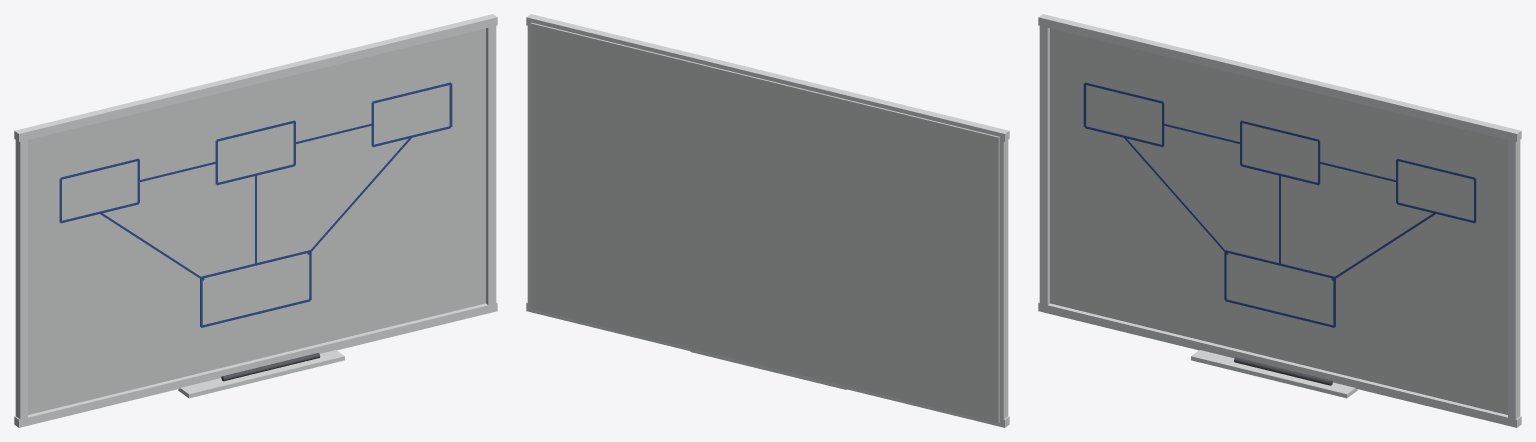
File: whiteboard.glb
3 views of the same model, side by side, from view 1: azimuth 30°, elevation 25°; view 2: azimuth 150°, elevation 25°; view 3: azimuth 330°, elevation 25° (orthographic).
Visible parts, largest first — view 1: Board, Frame, Ink, Markers; view 2: Board, Frame; view 3: Board, Frame, Ink, Markers.
Part boxes in pixels (bbox=[...]): Board: bbox=[28, 28, 485, 414]; Frame: bbox=[14, 14, 497, 427]; Ink: bbox=[59, 82, 452, 327]; Markers: bbox=[221, 353, 320, 381]; Board: bbox=[530, 22, 999, 423]; Frame: bbox=[526, 14, 1009, 427]; Board: bbox=[1050, 28, 1507, 414]; Frame: bbox=[1038, 14, 1521, 427]; Ink: bbox=[1083, 82, 1476, 327]; Markers: bbox=[1234, 357, 1332, 385].
Size of the model in its own units: 1.84 by 1.09 by 0.095.
